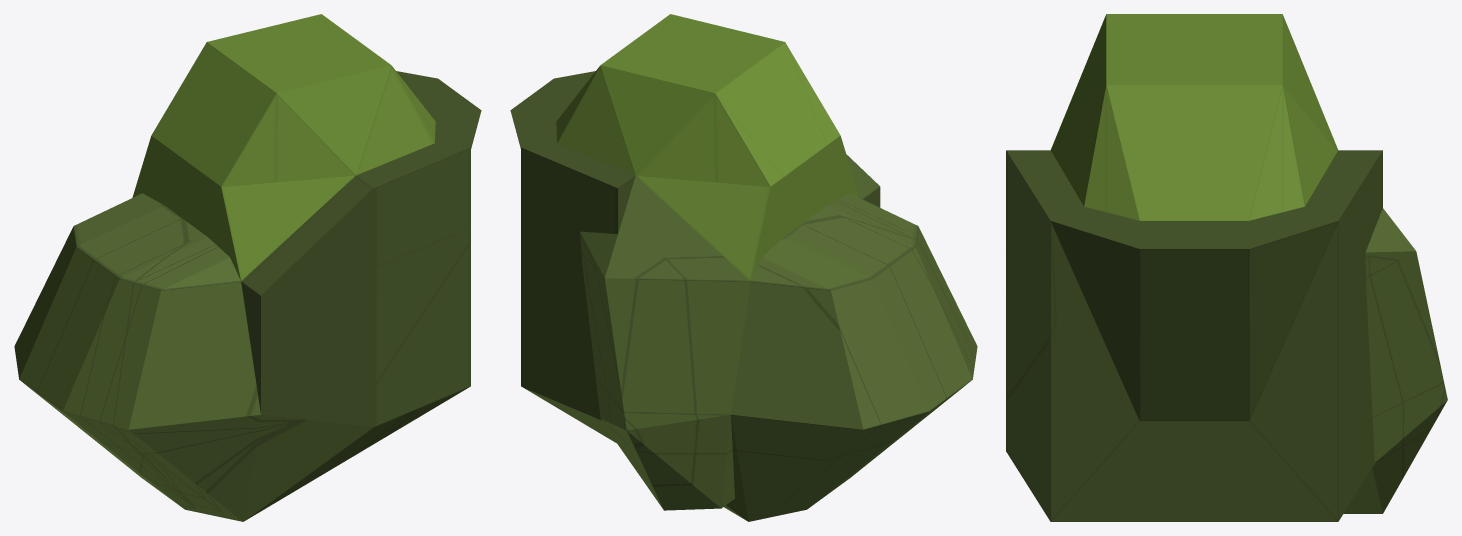
File: RHand.fbx
The picture shows the model from 3 angles, left to right: view 1: azimuth 30°, elevation 25°; view 2: azimuth 150°, elevation 25°; view 3: azimuth 270°, elevation 25°; orthographic projection. The views are drawn at different scales.
Parts seen in each view (by area): view 1: Shape_IndexedFaceSet.034, Shape_IndexedFaceSet.035, Shape_IndexedFaceSet.046; view 2: Shape_IndexedFaceSet.034, Shape_IndexedFaceSet.046, Shape_IndexedFaceSet.035; view 3: Shape_IndexedFaceSet.035, Shape_IndexedFaceSet.046, Shape_IndexedFaceSet.034.
Boxes of the visible parts, box(x1,y1,x2,y2) form: Shape_IndexedFaceSet.034: box(14, 193, 469, 521); Shape_IndexedFaceSet.035: box(241, 71, 481, 427); Shape_IndexedFaceSet.046: box(132, 14, 435, 280); Shape_IndexedFaceSet.034: box(522, 176, 977, 521); Shape_IndexedFaceSet.046: box(556, 14, 859, 280); Shape_IndexedFaceSet.035: box(510, 71, 880, 420); Shape_IndexedFaceSet.035: box(1006, 150, 1382, 521); Shape_IndexedFaceSet.046: box(1050, 14, 1338, 220); Shape_IndexedFaceSet.034: box(1343, 208, 1447, 513).
Bounding box in the file's own units: 0.1252 × 0.1163 × 0.0907.
